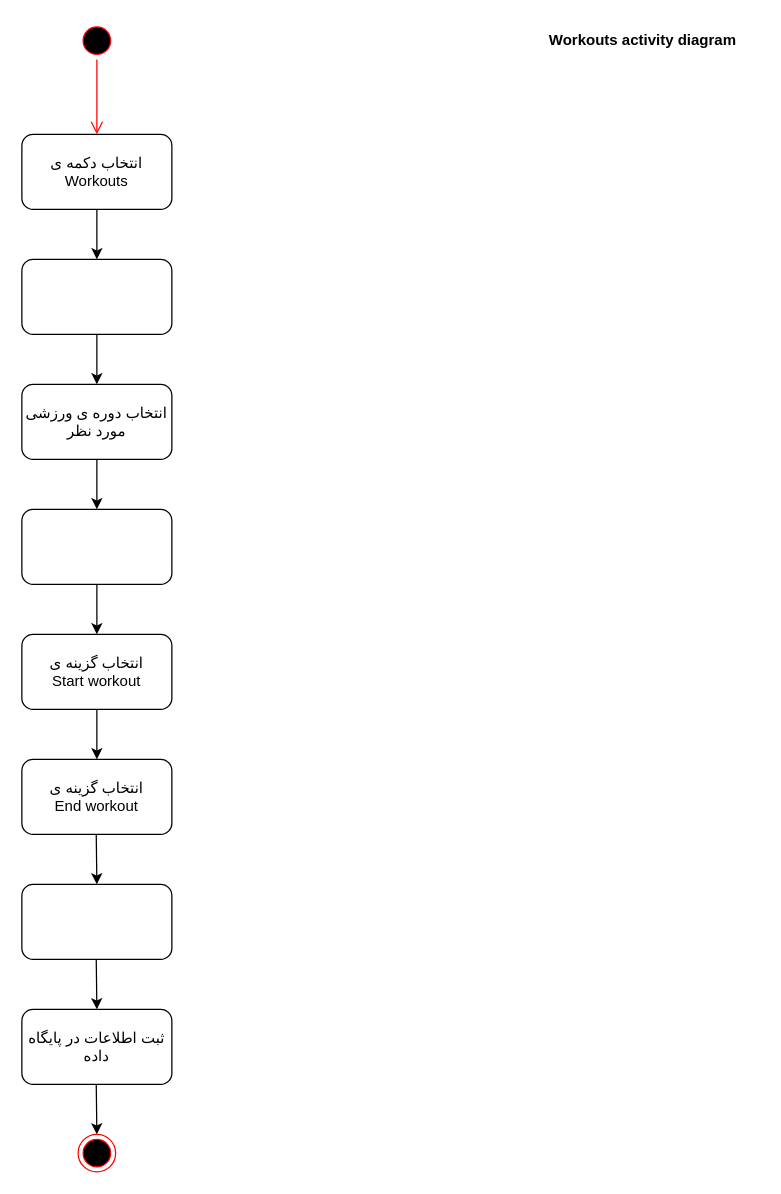
Some shapes in this 781 by 1194 pixel diagram are drawn without their labels. The centre of each missing label's shape, as x and y in pixels:
"نمایش جزییات و ویدیو های دوره ی ورزشی انتخاب شده" belongs at (x=96, y=546).
"نمایش لیست دوره های ورزشی پیشنهادی و کلی" belongs at (x=96, y=296).
"نمایش پیام تشویقی برای کاربر" belongs at (x=96, y=921).
